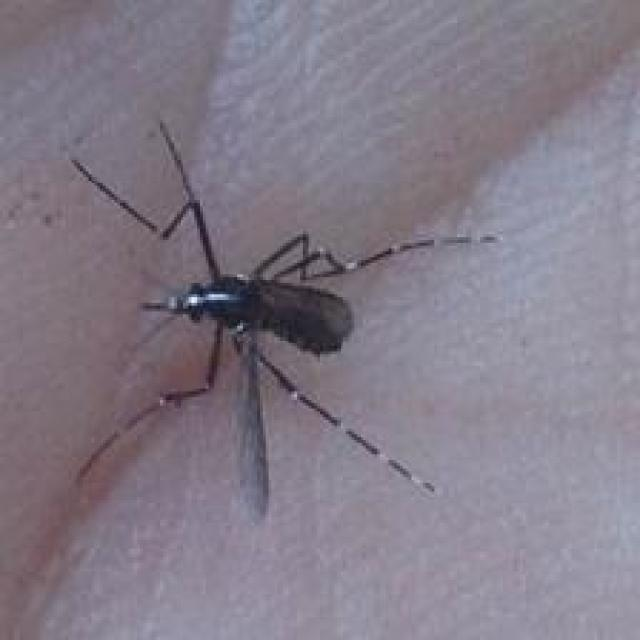Aedes albopictus: (67, 117, 502, 523)
